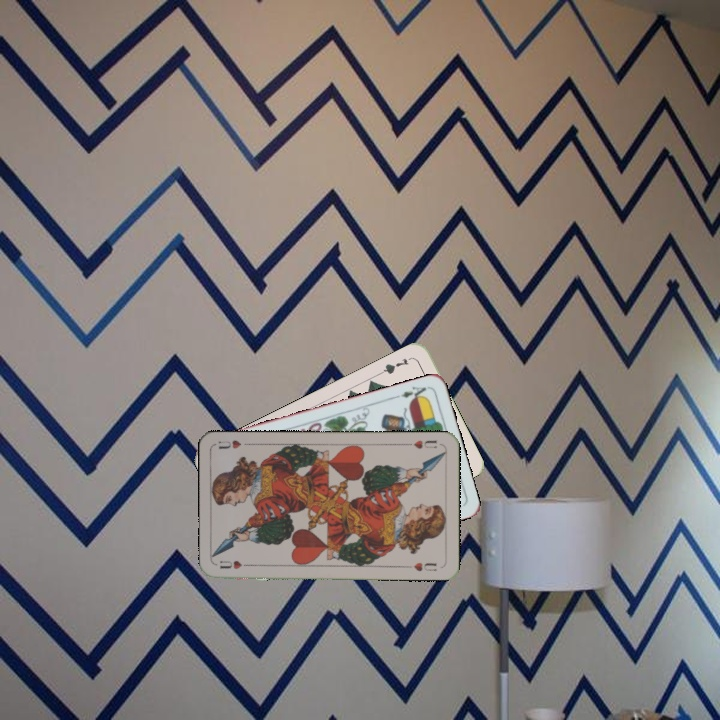EA: (397, 382, 430, 404)
G7: (377, 354, 411, 377)
HU: (402, 436, 440, 451), (216, 557, 254, 571)
